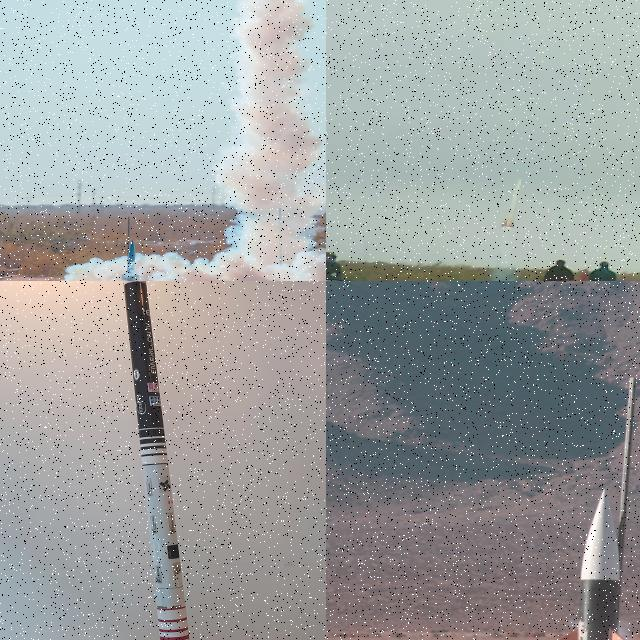Rocket: (123, 281, 190, 640), (531, 486, 640, 640), (500, 178, 522, 228), (121, 239, 141, 281)
